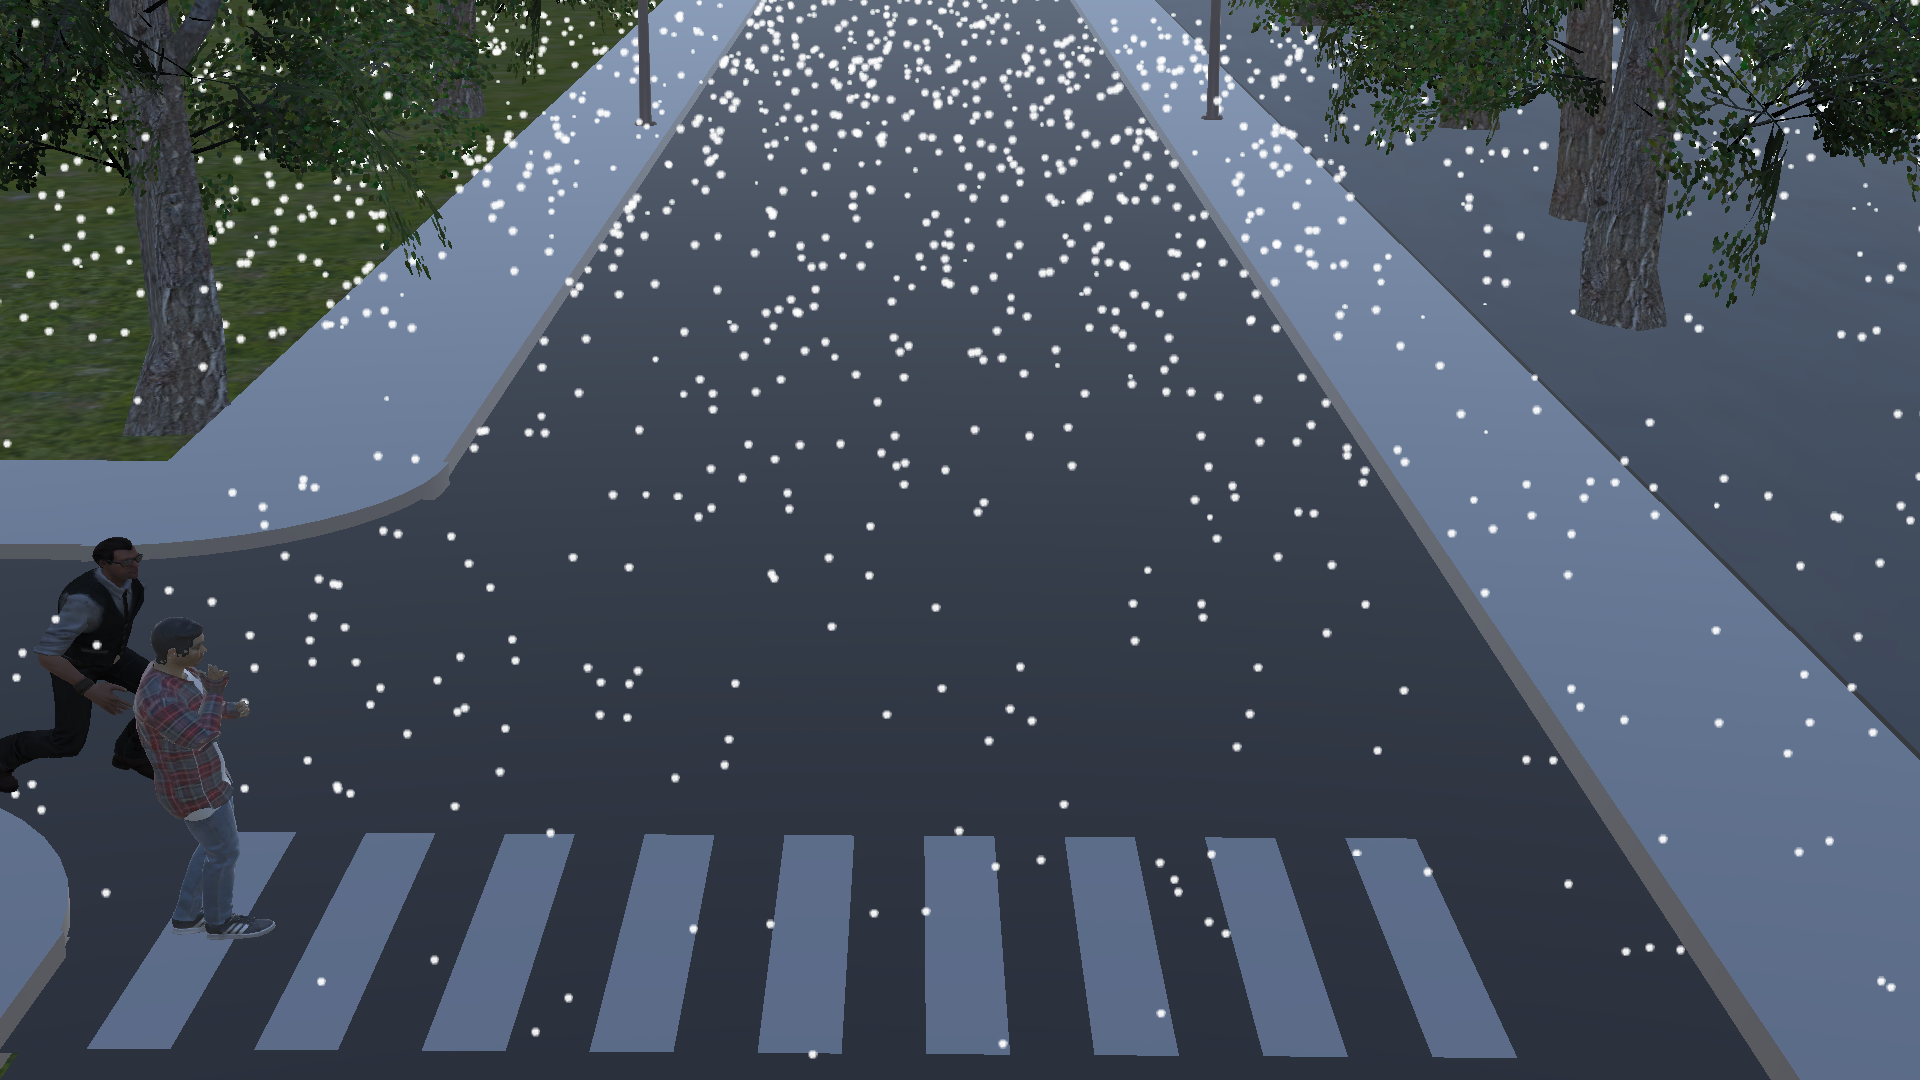pedestrian: (127, 610, 303, 946), (5, 508, 170, 845)
